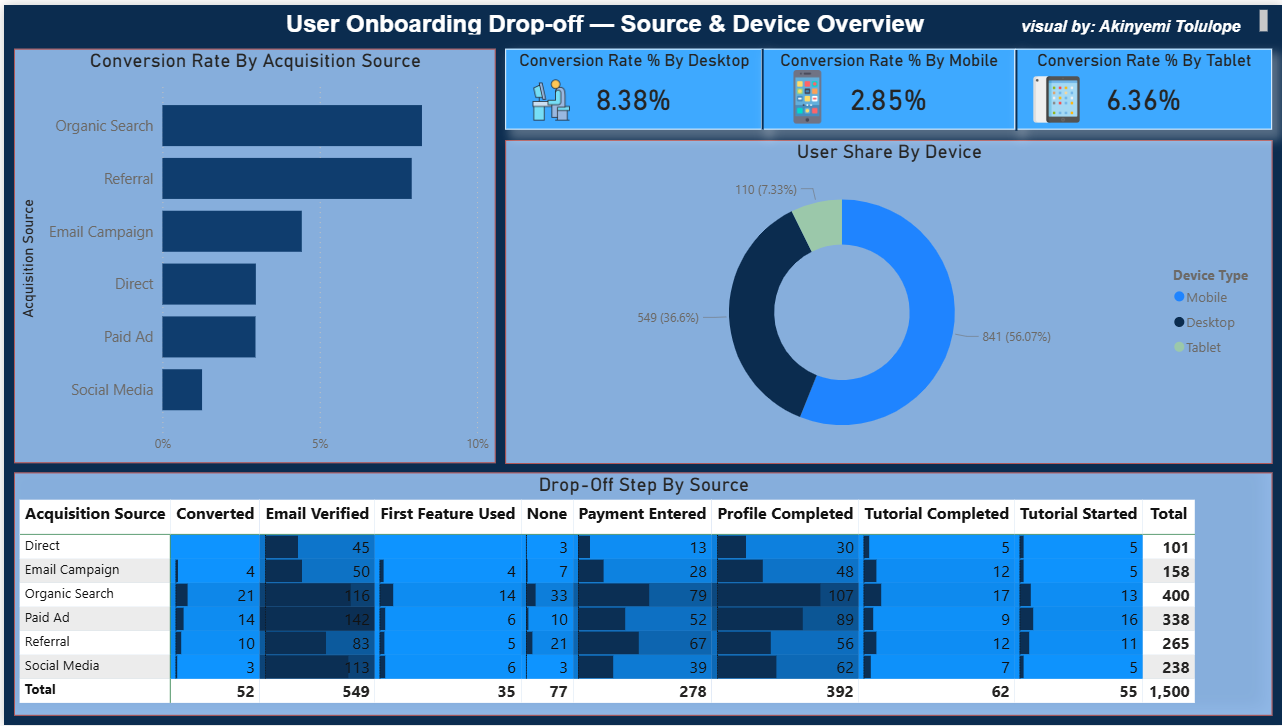

This screenshot's page, from the dashboard's own definition file:
{"tool":"powerbi","page":{"name":"SOURCE & DEVICE","canvas":[1280,720],"ordinal":1},"visuals":[{"type":"clusteredBarChart","title":"Conversion Rate By Acquisition Source","fields":{"Category":["Raw Data.Acquisition Source"],"Y":["Raw Data.Conversion Rate %"]},"box":[10,44.3,481.4,414.3],"z":0},{"type":"pivotTable","title":"Drop-Off Step By Source","fields":{"Rows":["Raw Data.Acquisition Source"],"Columns":["Raw Data.Drop Off Step"],"Values":["Raw Data.Total Users"]},"box":[9.6,467.9,1258.3,242.9],"z":1000},{"type":"donutChart","title":"User Share By Device","fields":{"Category":["Raw Data.Device Type"],"Y":["Raw Data.Total Users"]},"box":[500.9,134.5,767.1,323.8],"z":2000},{"type":"kpi","title":"Conversion Rate % By Desktop","fields":{"Indicator":["Raw Data.Conversion Rate %"],"TrendLine":["Raw Data.Device Type"]},"box":[500.9,43.9,256.6,81],"z":3000},{"type":"kpi","title":"Conversion Rate % By Mobile","fields":{"Indicator":["Raw Data.Conversion Rate %"],"TrendLine":["Raw Data.Device Type"]},"box":[757.5,43.9,253.9,81],"z":4000},{"type":"kpi","title":"Conversion Rate % By Tablet","fields":{"Indicator":["Raw Data.Conversion Rate %"],"TrendLine":["Raw Data.Device Type"]},"box":[1011.3,43.9,256.6,81],"z":5000},{"type":"shape","box":[752,43.9,12.3,81],"z":6000},{"type":"shape","box":[1005.8,45.3,12.3,81],"z":7000},{"type":"image","box":[500.9,64.5,91.9,60.4],"z":8000},{"type":"image","box":[1012.7,71.4,79.6,46.7],"z":9000},{"type":"image","box":[764.3,64.5,79.6,53.5],"z":10000},{"type":"textbox","box":[10,0,1258.6,34.3],"z":10001}]}

Visuals, with their boxes in screenshot pixels (x1, y1, x2, y2), scaled from the page's 1280x720 canvas onto the 1282x726 screenshot:
"Conversion Rate By Acquisition Source" clusteredBarChart: (left=10, top=45, right=492, bottom=462)
"Drop-Off Step By Source" pivotTable: (left=10, top=472, right=1270, bottom=717)
"User Share By Device" donutChart: (left=502, top=136, right=1270, bottom=462)
"Conversion Rate % By Desktop" kpi: (left=502, top=44, right=759, bottom=126)
"Conversion Rate % By Mobile" kpi: (left=759, top=44, right=1013, bottom=126)
"Conversion Rate % By Tablet" kpi: (left=1013, top=44, right=1270, bottom=126)
shape: (left=753, top=44, right=765, bottom=126)
shape: (left=1007, top=46, right=1020, bottom=127)
image: (left=502, top=65, right=594, bottom=126)
image: (left=1014, top=72, right=1094, bottom=119)
image: (left=765, top=65, right=845, bottom=119)
textbox: (left=10, top=0, right=1271, bottom=35)
